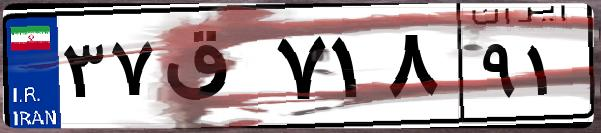1: (330, 28, 385, 110), (525, 38, 570, 115)
3: (57, 26, 110, 100)
7: (270, 28, 330, 110), (110, 28, 158, 98)
8: (385, 28, 445, 110)
9: (475, 38, 525, 113)
ق: (158, 20, 270, 120)
